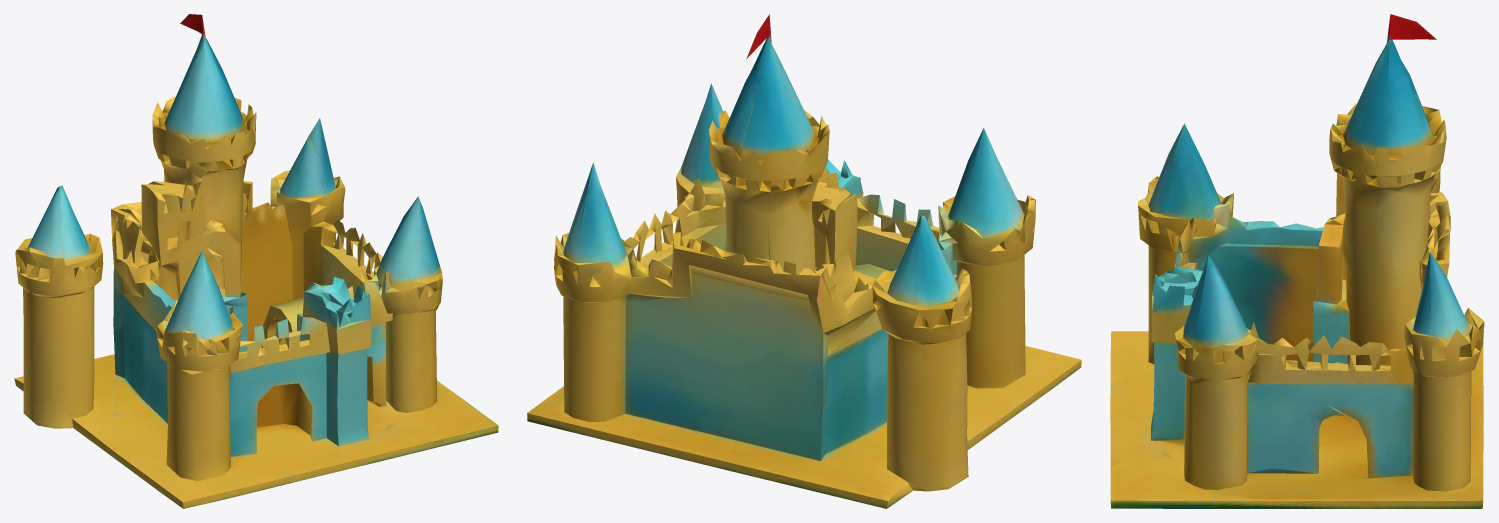
Rendered from m2ToyCastleBg.glb.
3 views of the same model, side by side, from view 1: azimuth 30°, elevation 25°; view 2: azimuth 150°, elevation 25°; view 3: azimuth 270°, elevation 25° (orthographic). The views are drawn at different scales.
Visible parts, largest first — view 1: model; view 2: model; view 3: model.
Part boxes in pixels (<box>): model: <box>14,14,498,508</box>; model: <box>527,14,1081,508</box>; model: <box>1110,14,1484,508</box>.
Size of the model in its own units: 1.88 by 1.9 by 1.6.
1 material, 1 textured.
